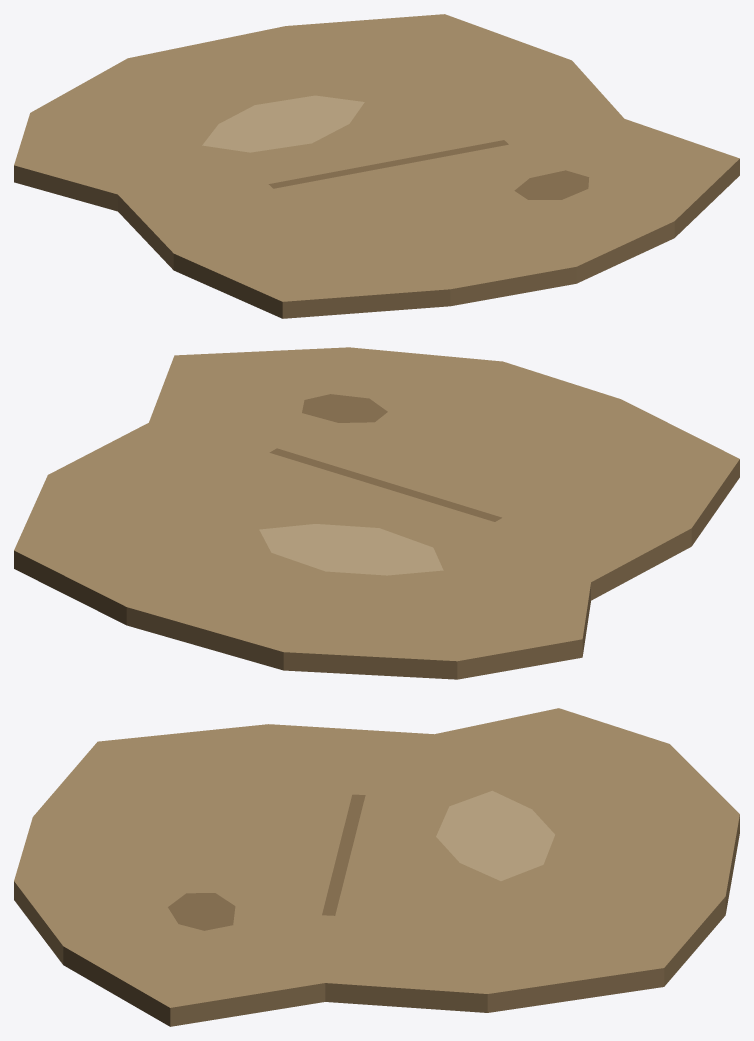
Rendered from CamelHide.glb.
The picture shows the model from 3 angles, top to bottom: view 1: azimuth 30°, elevation 25°; view 2: azimuth 150°, elevation 25°; view 3: azimuth 270°, elevation 25°; orthographic projection. The views are drawn at different scales.
Visible parts, largest first — view 1: CamelHide; view 2: CamelHide; view 3: CamelHide.
Part boxes in pixels (x1,y1,x2,y2): CamelHide: [14, 14, 739, 318]; CamelHide: [14, 347, 739, 679]; CamelHide: [14, 708, 739, 1026].
Bounding box in the file's own units: 1.7 × 0.061 × 1.74.
